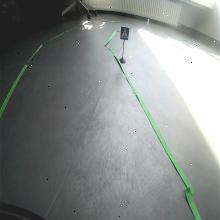crosswalk: (120, 27, 130, 40)
